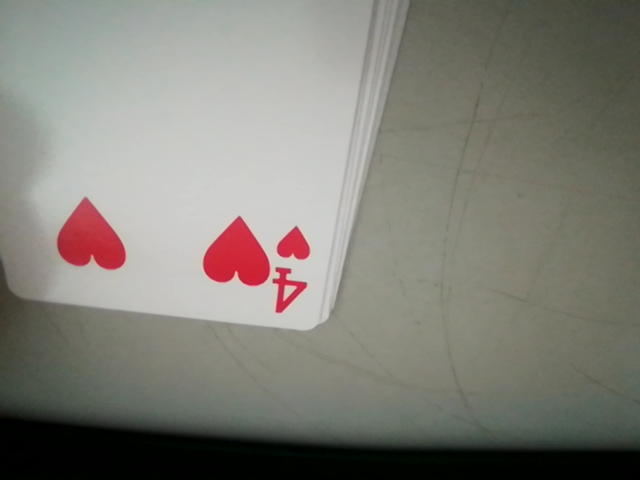hx 4: (268, 220, 319, 319)
